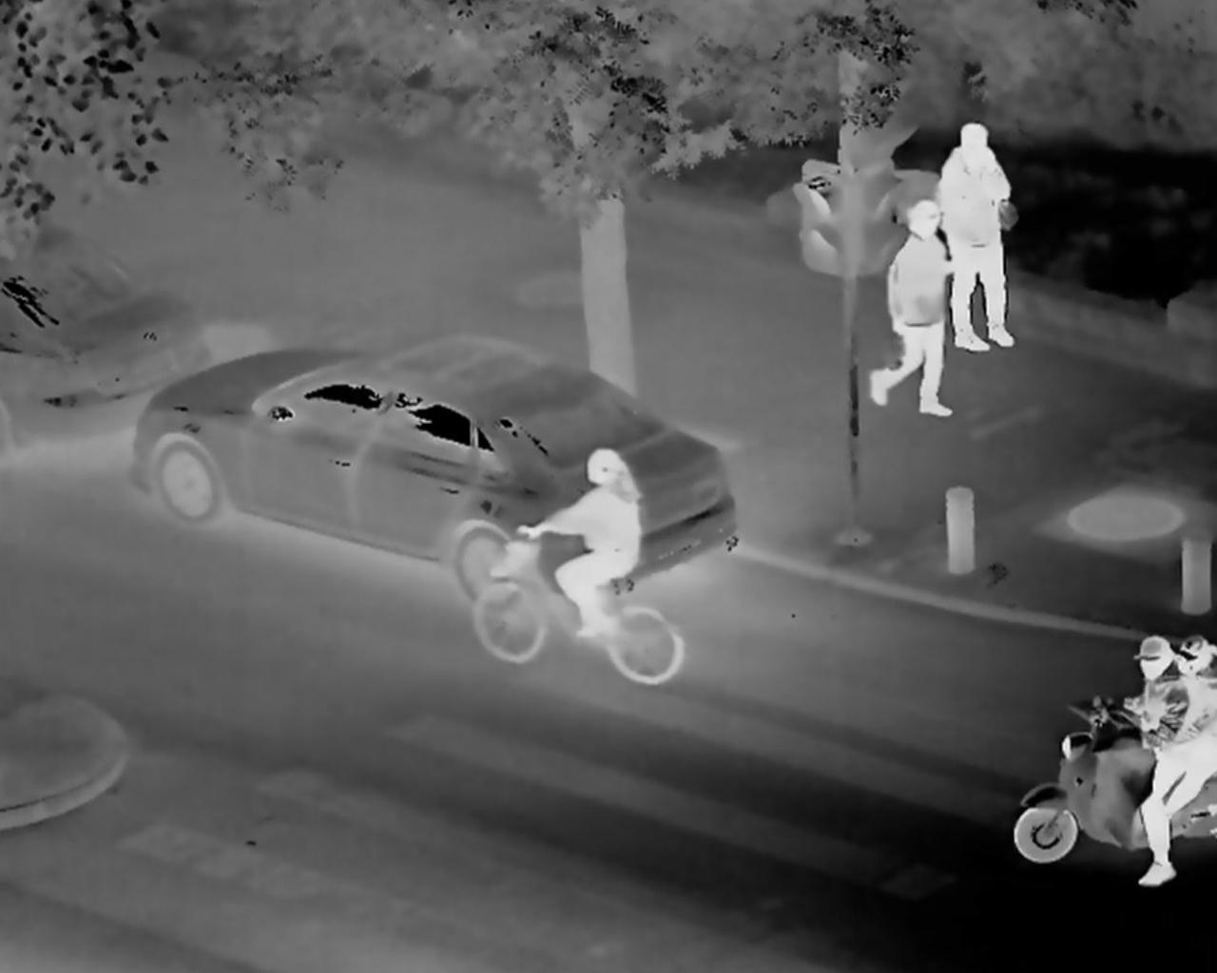person: (1111, 619, 1217, 923), (517, 450, 639, 646), (928, 118, 1022, 367), (867, 198, 953, 435)
